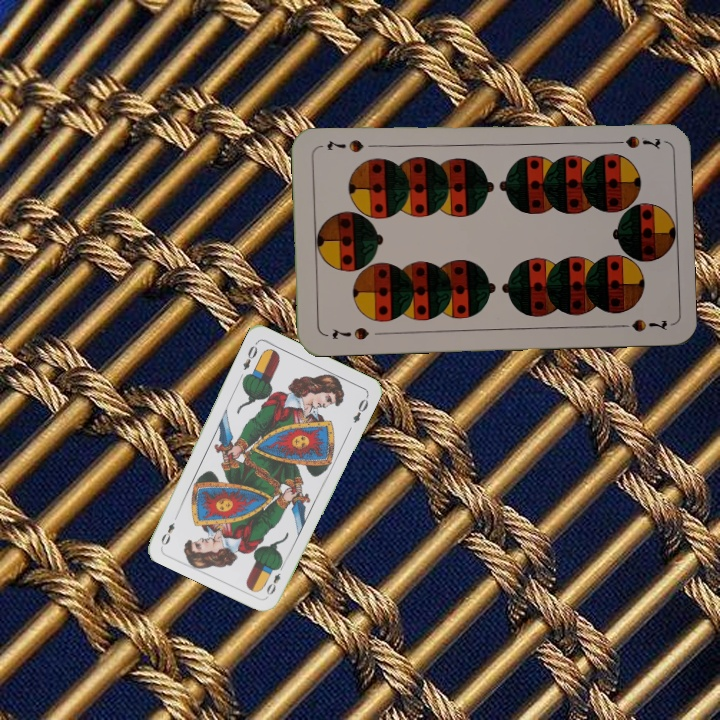EO: (262, 560, 287, 598), (239, 338, 260, 373)
S7: (606, 131, 663, 152), (328, 323, 371, 343)
